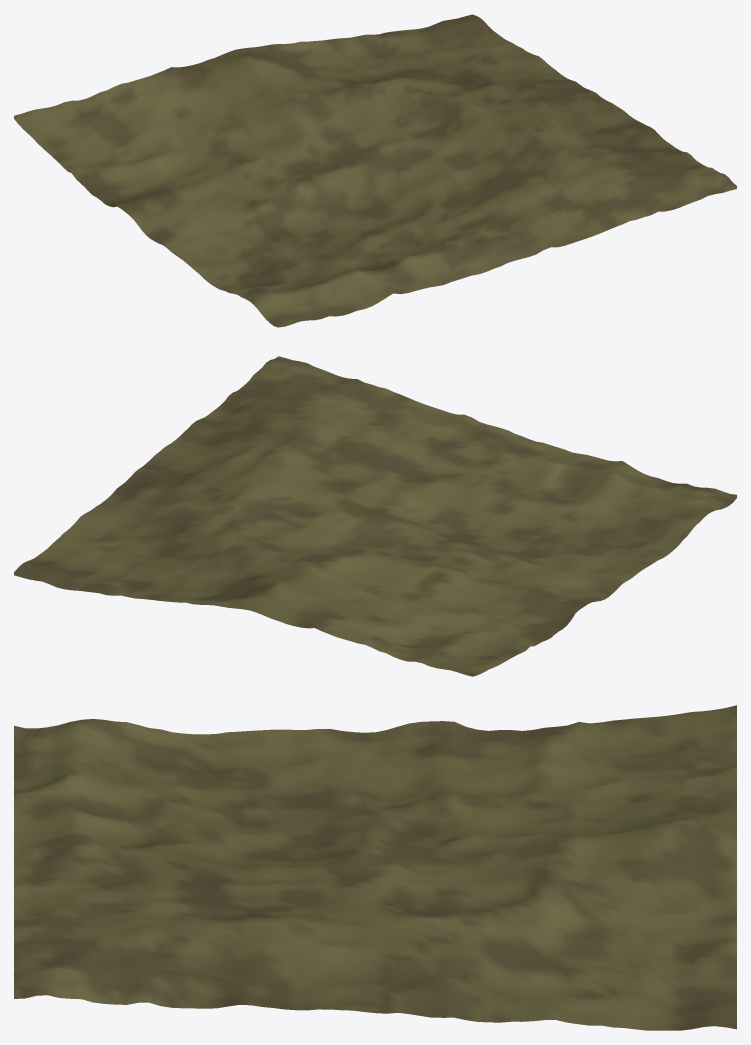
The model's file is land_f_06_00.glb.
The picture shows the model from 3 angles, top to bottom: view 1: azimuth 30°, elevation 25°; view 2: azimuth 150°, elevation 25°; view 3: azimuth 270°, elevation 25°; orthographic projection. The views are drawn at different scales.
Parts seen in each view (by area): view 1: land_f_06_00; view 2: land_f_06_00; view 3: land_f_06_00.
Boxes of the visible parts, x1,y1,x2,y2 form: land_f_06_00: (14, 14, 736, 327); land_f_06_00: (14, 356, 736, 676); land_f_06_00: (14, 705, 736, 1030).
Size of the model in its own units: 3840 by 368 by 3840.
